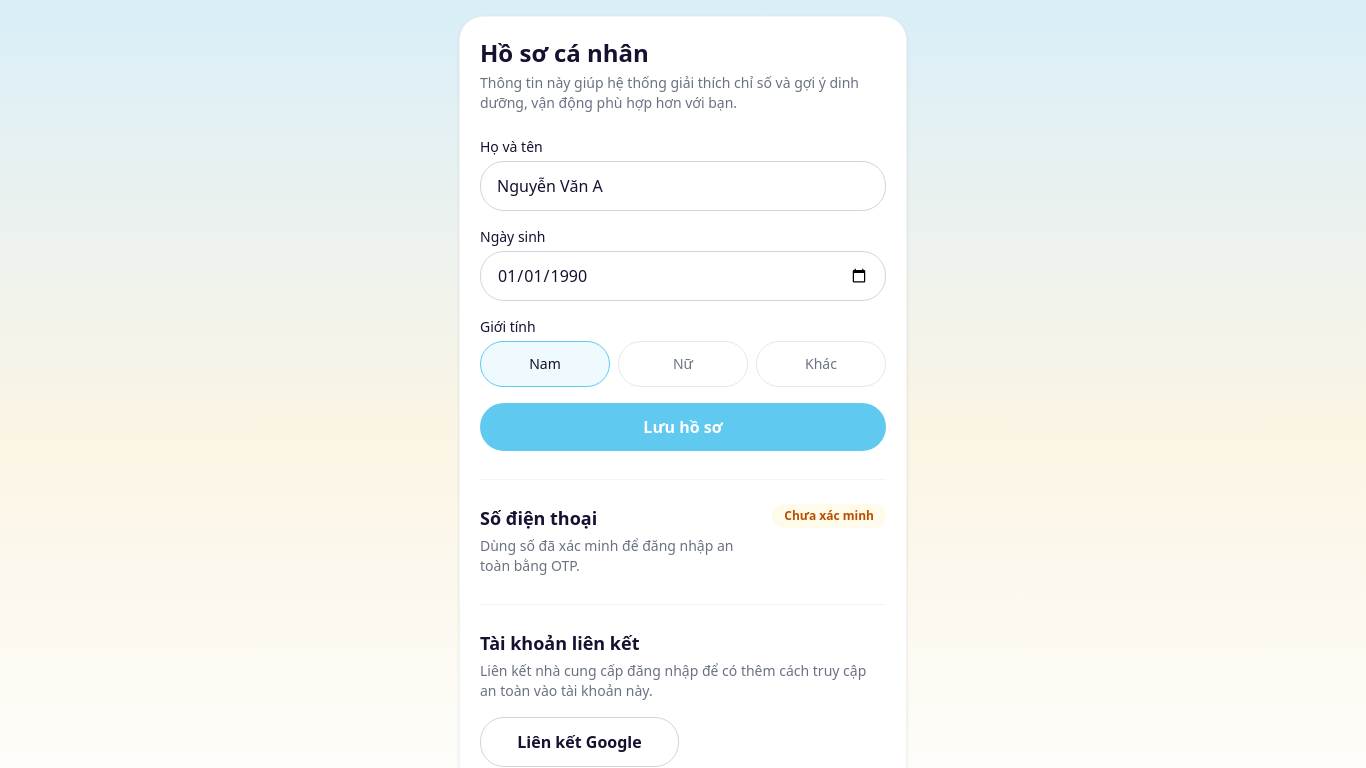
ProfilePage provider linking › shows an error and remains on the page when link start fails
Click the button "Liên kết Google": (580,742) [480, 717, 679, 767]
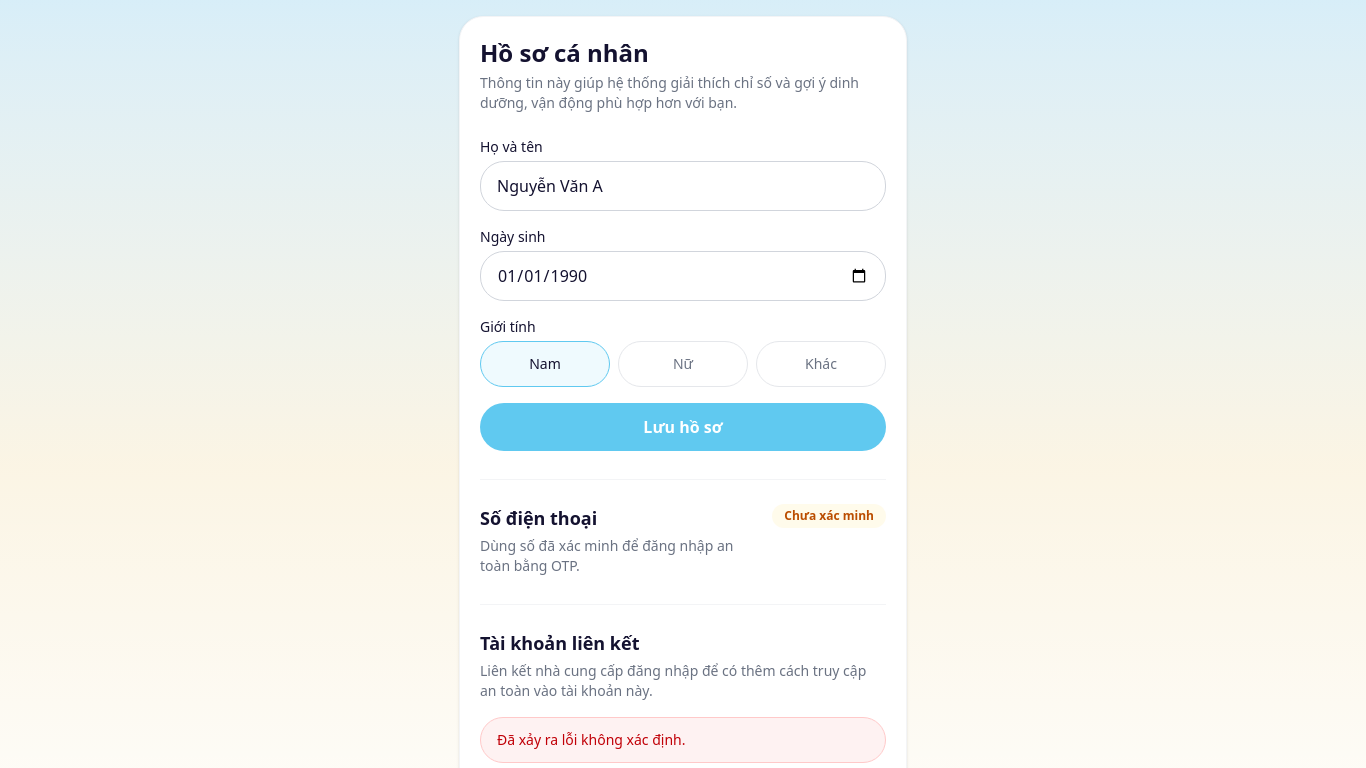
Expected: the text "Đã xảy ra lỗi không xác định." is shown, [480, 717, 886, 763]
